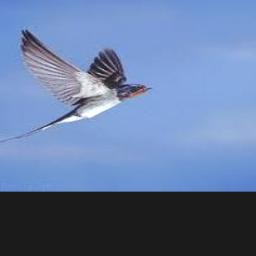Swallow: (0, 29, 151, 142)
